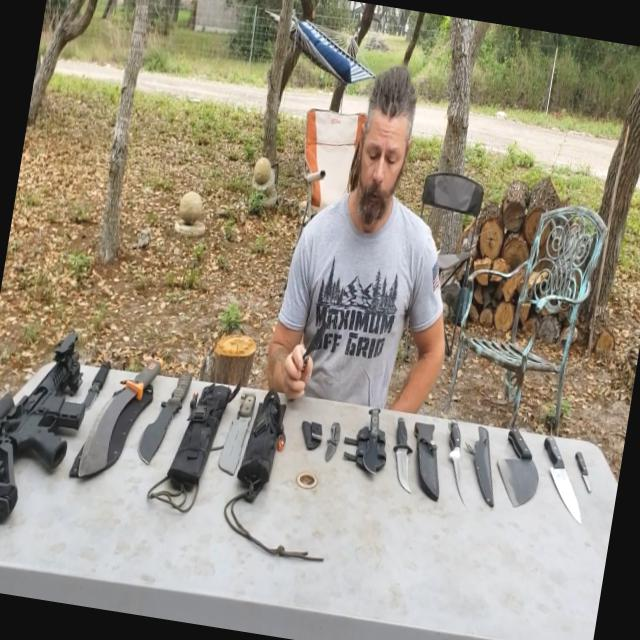knife: (71, 338, 165, 490), (128, 355, 198, 477), (480, 408, 550, 520), (524, 426, 596, 526), (210, 378, 264, 485), (432, 412, 482, 512), (380, 398, 424, 501), (351, 386, 392, 486), (290, 302, 332, 388), (74, 344, 122, 419), (566, 438, 604, 504), (317, 408, 348, 480)
long weapon: (0, 307, 102, 540)
